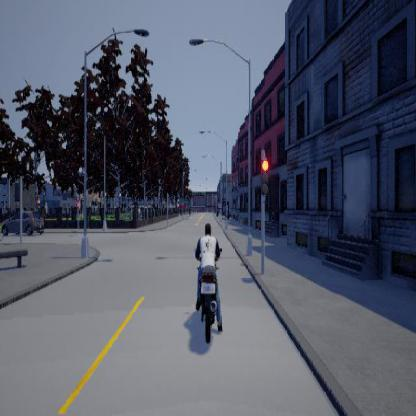motobike: (192, 221, 223, 346)
traffic_light_red: (260, 151, 268, 202)
vehicle: (0, 209, 45, 237)
